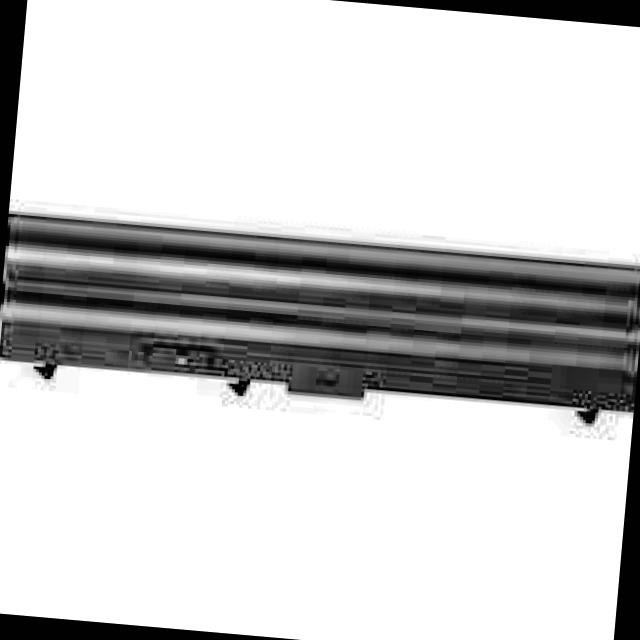Battery: (0, 207, 640, 409)
